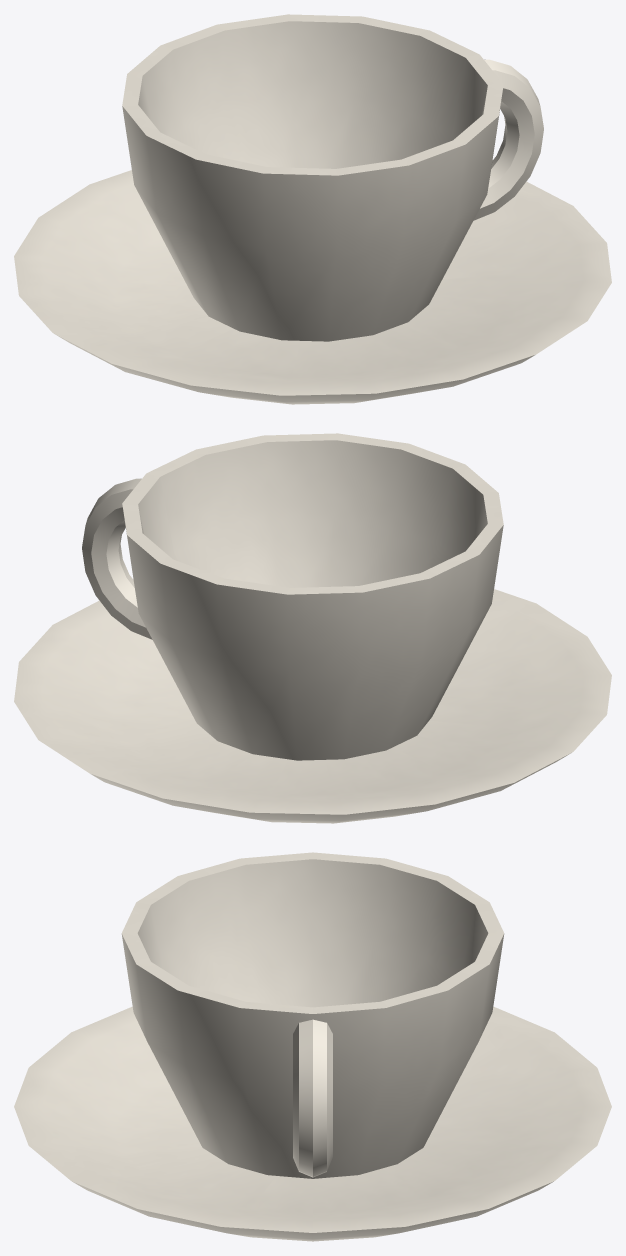
File: SM_Cup_Saucer.fbx
3 renders of one model, top to bottom at view 1: azimuth 30°, elevation 25°; view 2: azimuth 150°, elevation 25°; view 3: azimuth 270°, elevation 25°, orthographic.
Parts seen in each view (by area): view 1: SM_Cup_Saucer; view 2: SM_Cup_Saucer; view 3: SM_Cup_Saucer.
Part boxes in pixels (x1,y1,x2,y2): SM_Cup_Saucer: (14, 14, 611, 404); SM_Cup_Saucer: (14, 433, 611, 823); SM_Cup_Saucer: (14, 852, 611, 1241).
Size of the model in its own units: 0.15 by 0.062 by 0.15.
1 material, 1 textured.
